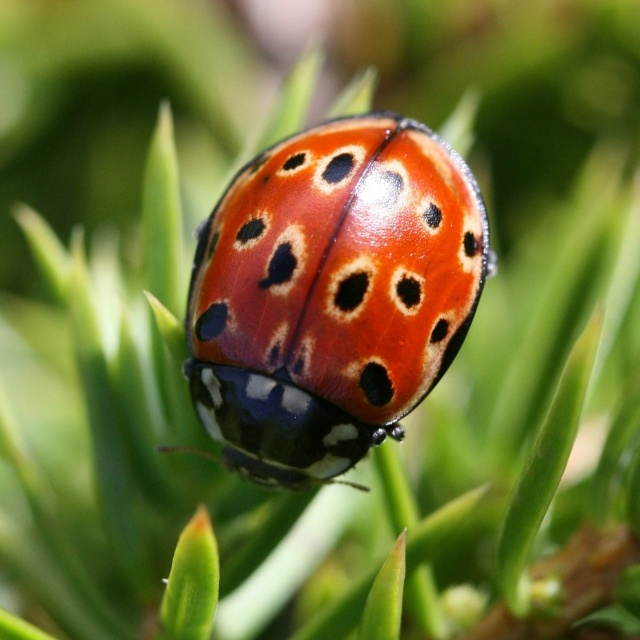Ladybug: (176, 117, 501, 491)
